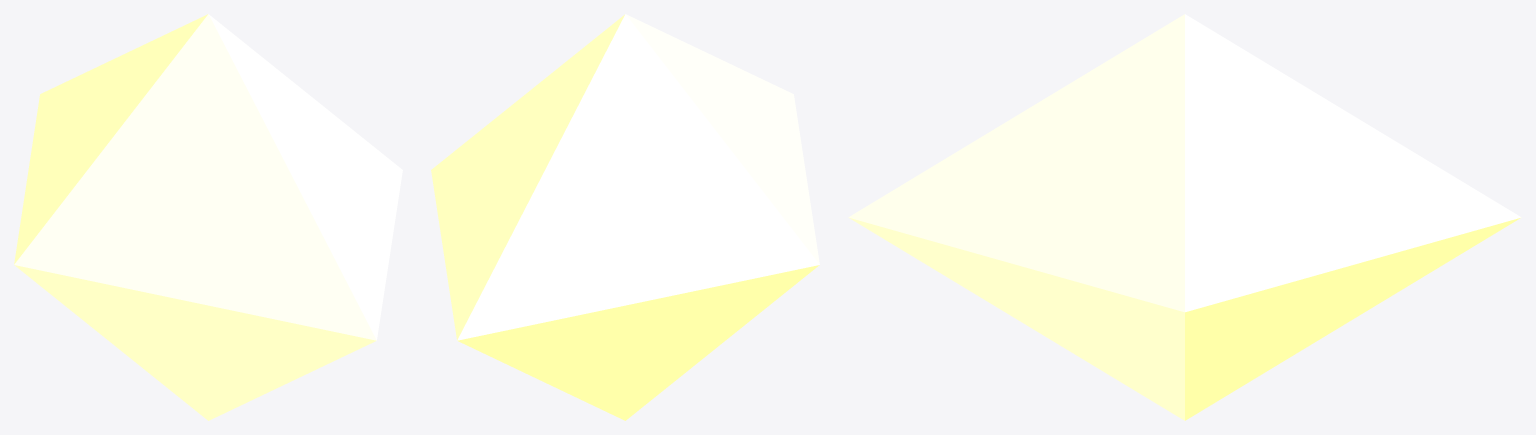
The model's file is light-shard.glb.
The picture shows the model from 3 angles, left to right: view 1: azimuth 30°, elevation 25°; view 2: azimuth 150°, elevation 25°; view 3: azimuth 270°, elevation 25°; orthographic projection.
Visible parts, largest first — view 1: Gem; view 2: Gem; view 3: Gem.
Part boxes in pixels (x1,y1,x2,y2): Gem: [14, 14, 402, 420]; Gem: [431, 14, 819, 420]; Gem: [848, 14, 1521, 420].
Bounding box in the file's own units: 0.8 × 0.8 × 1.2.
